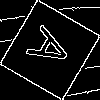A: (25, 24, 82, 77)
